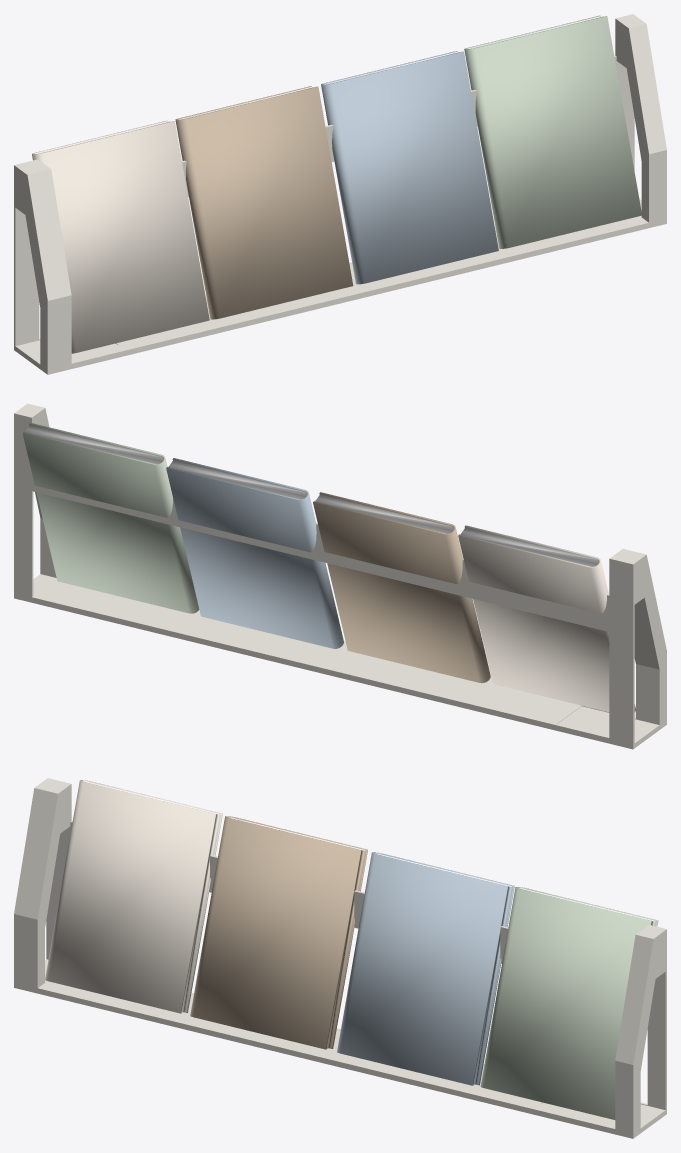
The model's file is stand.glb.
The picture shows the model from 3 angles, top to bottom: view 1: azimuth 30°, elevation 25°; view 2: azimuth 150°, elevation 25°; view 3: azimuth 330°, elevation 25°; orthographic projection.
Parts seen in each view (by area): view 1: t-book-stand, s-book-stand, k-book-stand, n-book-stand, Cube.001; view 2: Cube.001, k-book-stand, s-book-stand, t-book-stand, n-book-stand; view 3: n-book-stand, t-book-stand, k-book-stand, s-book-stand, Cube.001.
Part boxes in pixels (x1,y1,x2,y2): t-book-stand: [175, 86, 353, 319]; s-book-stand: [464, 15, 642, 248]; k-book-stand: [321, 51, 498, 284]; n-book-stand: [32, 120, 209, 353]; Cube.001: [14, 14, 666, 374]; Cube.001: [14, 403, 666, 749]; k-book-stand: [166, 458, 343, 648]; s-book-stand: [22, 422, 199, 613]; t-book-stand: [313, 492, 490, 683]; n-book-stand: [458, 525, 635, 712]; n-book-stand: [45, 780, 222, 1013]; t-book-stand: [190, 816, 367, 1049]; k-book-stand: [337, 852, 514, 1085]; s-book-stand: [480, 887, 658, 1119]; Cube.001: [14, 778, 666, 1138].
Bounding box in the file's own units: 2.24 × 0.6454 × 0.2897.
